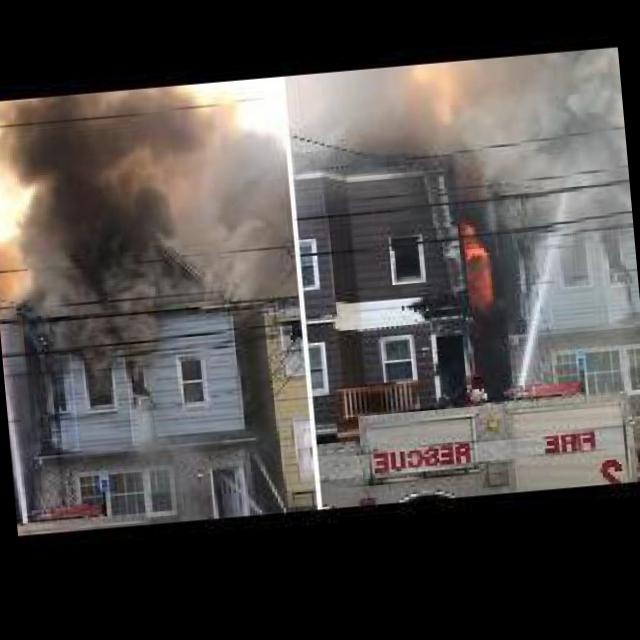fire: (449, 212, 504, 320)
smoke: (2, 83, 230, 380)
